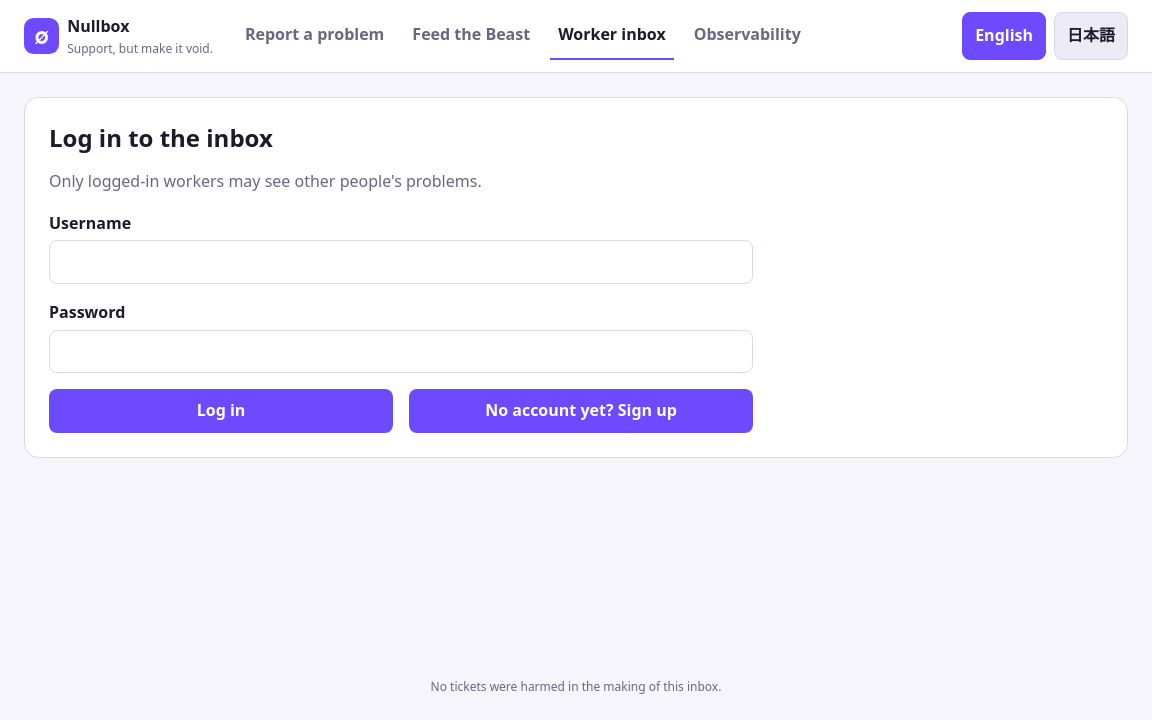
Test case: RequireWorker › sign up shows the username_taken message
The width and height of the screenshot is (1152, 720).
Click the button "No account yet? Sign up" at (581, 411), box [409, 389, 753, 433]
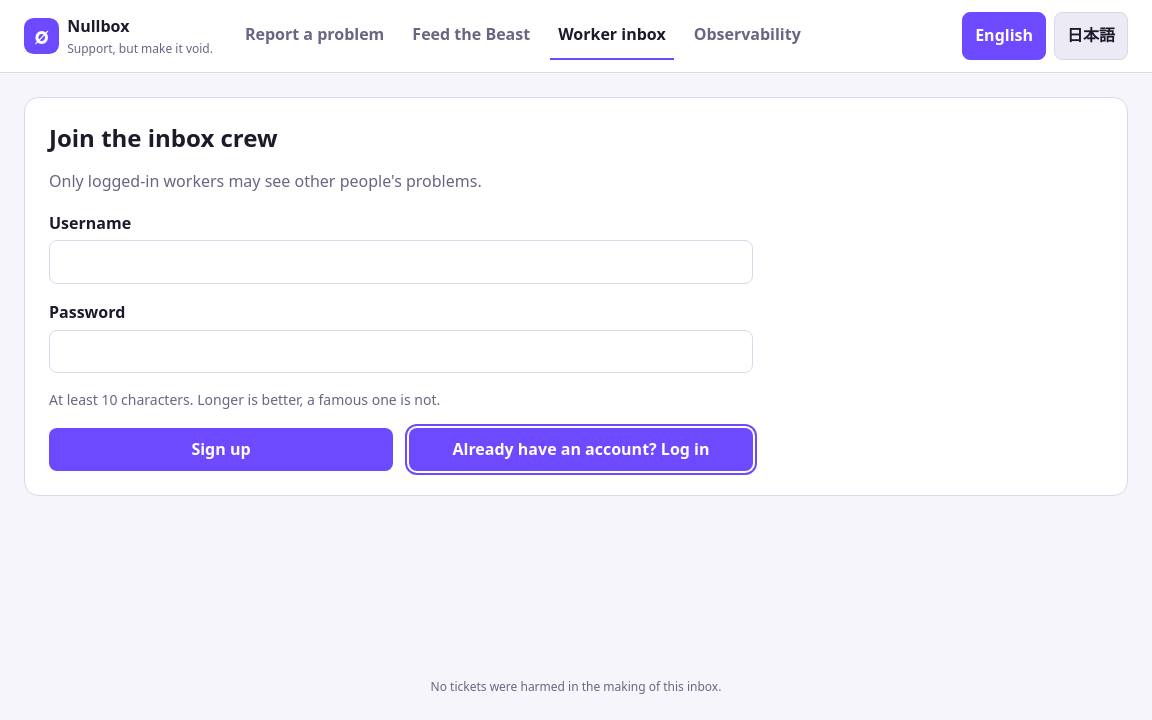
Type "alice" into the field labelled "Username" at (401, 262), box [49, 240, 753, 284]
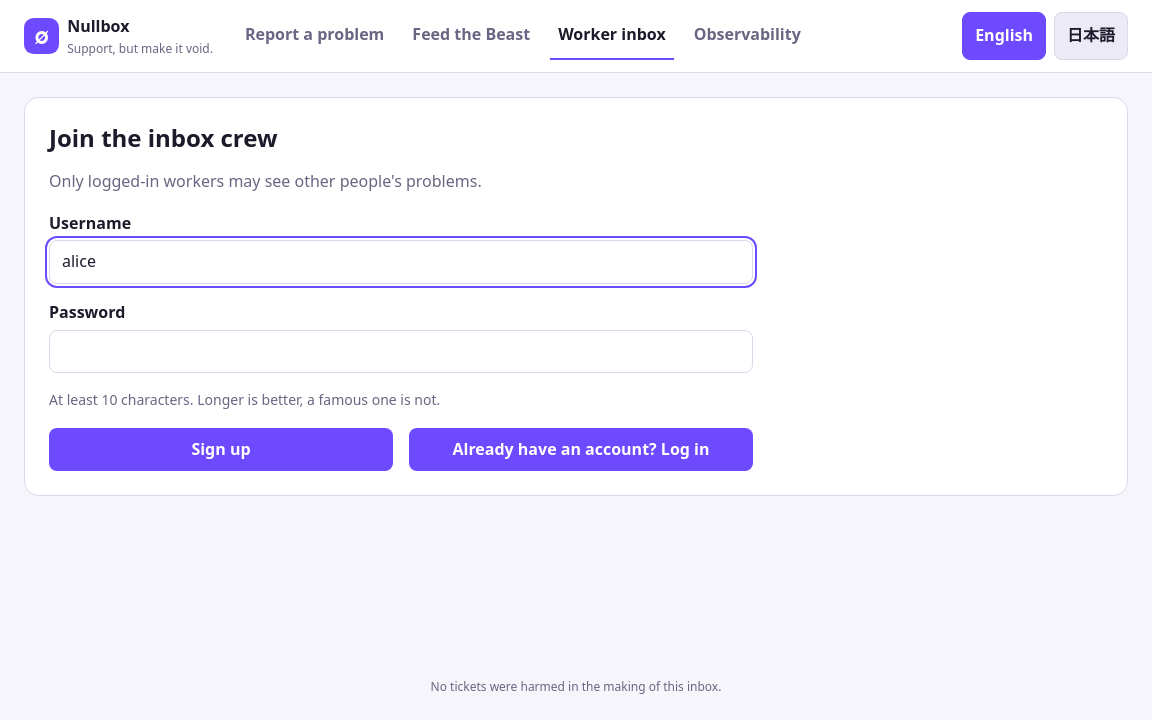
Type "correct horse battery" into the password field labelled "Password" at (401, 351), box [49, 330, 753, 373]
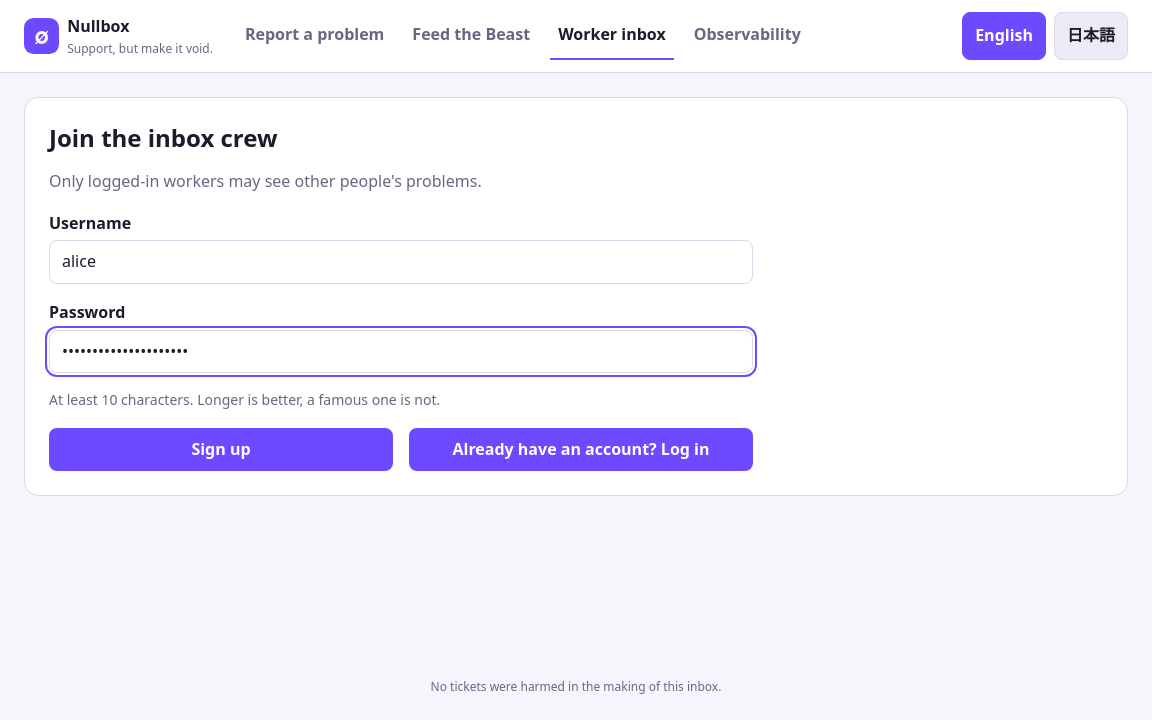
Click the button "Sign up" at (221, 449), box [49, 428, 393, 471]
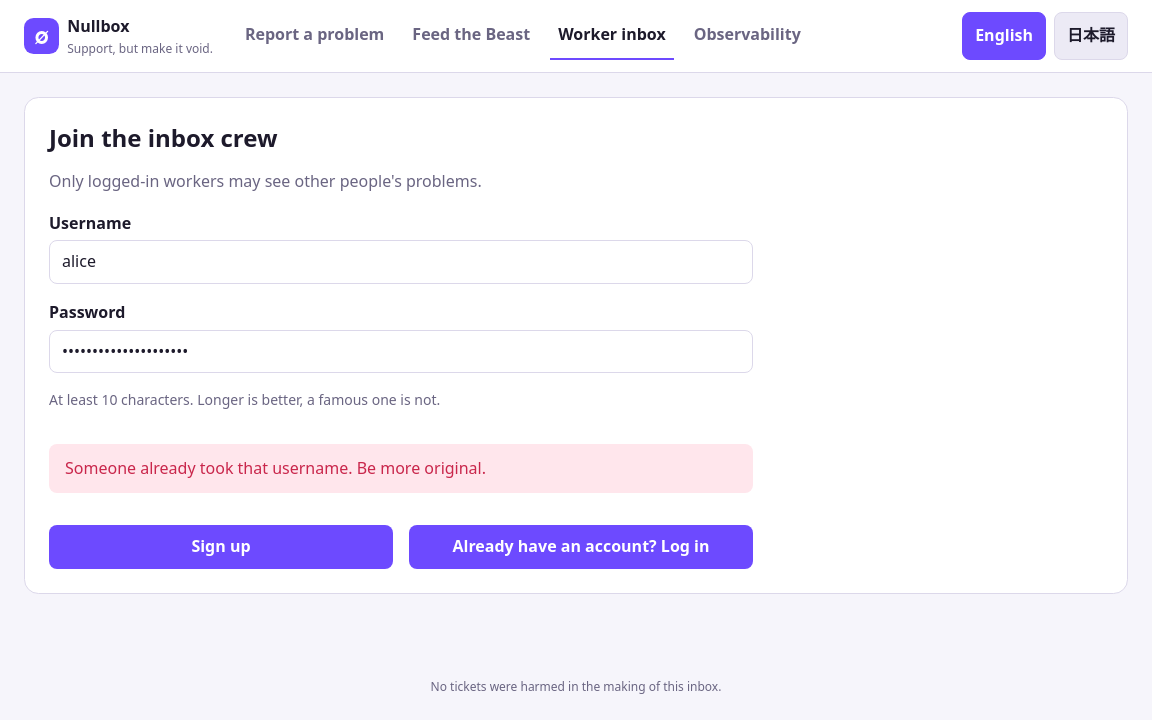
Check: the message reads "Someone already took that username. Be more original.", box [65, 456, 486, 478]
